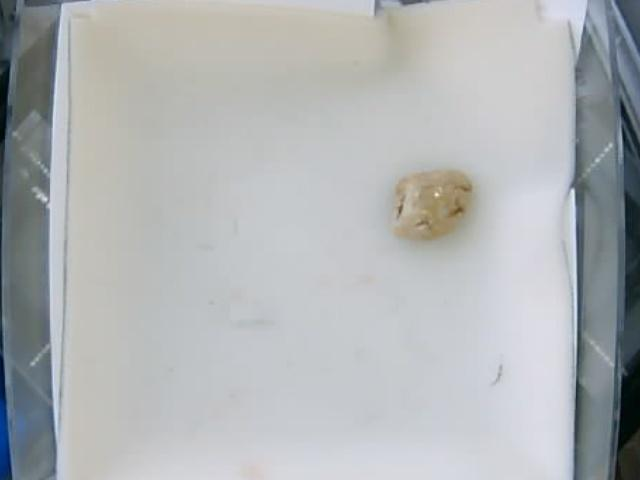Pebble: (395, 170, 472, 242)
